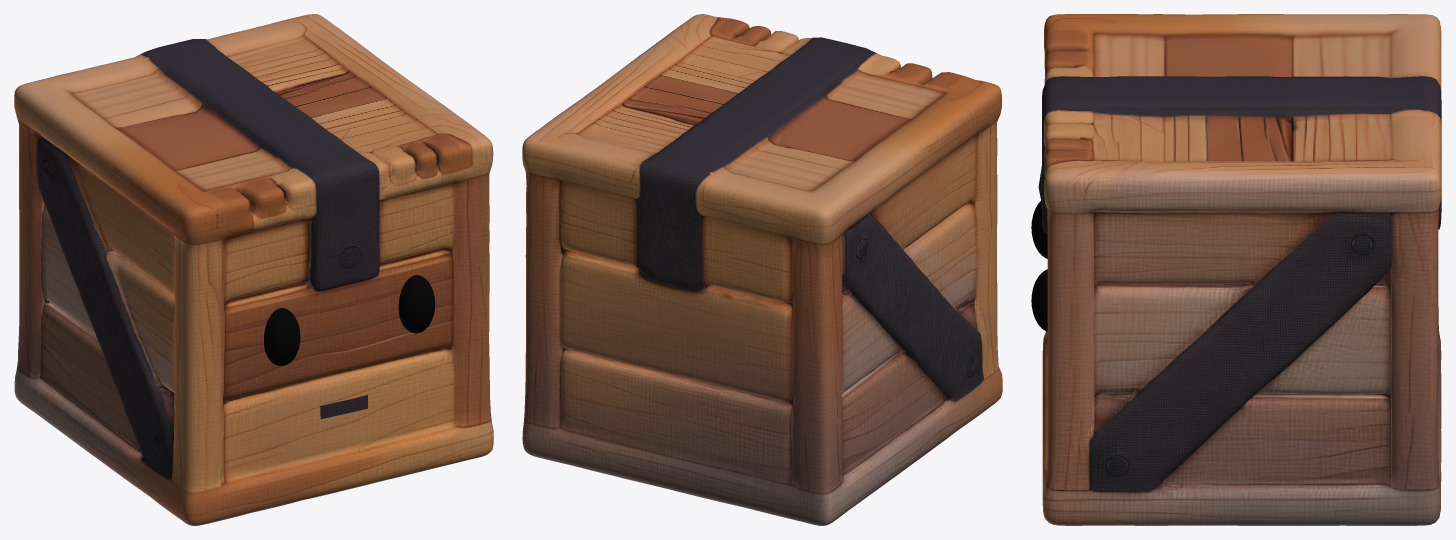
Rendered from 小箱子过渡态.fbx.
The picture shows the model from 3 angles, left to right: view 1: azimuth 30°, elevation 25°; view 2: azimuth 150°, elevation 25°; view 3: azimuth 270°, elevation 25°; orthographic projection. The views are drawn at different scales.
Parts seen in each view (by area): view 1: 被附身的box, eye.001; view 2: 被附身的box; view 3: 被附身的box, eye.001.
Boxes of the visible parts, x1,y1,x2,y2 form: 被附身的box: (14, 14, 493, 525); eye.001: (264, 275, 435, 366); 被附身的box: (522, 14, 1002, 525); 被附身的box: (1038, 14, 1441, 525); eye.001: (1031, 201, 1047, 331).
Size of the model in its own units: 4975 by 4899 by 5072.
2 materials, 1 textured.
